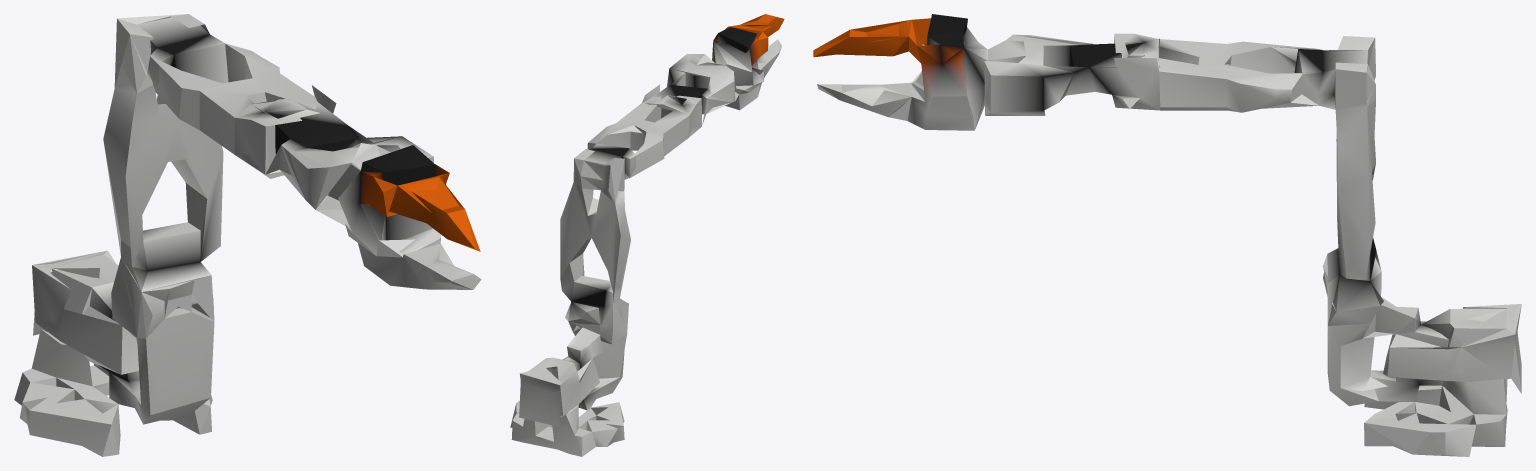
The picture shows the model from 3 angles, left to right: view 1: azimuth 30°, elevation 25°; view 2: azimuth 150°, elevation 25°; view 3: azimuth 270°, elevation 25°; orthographic projection. The views are drawn at different scales.
Parts seen in each view (by area): view 1: so101__l2; view 2: so101__l2; view 3: so101__l2.
Part boxes in pixels (x1,y1,x2,y2): so101__l2: [14, 14, 481, 456]; so101__l2: [510, 14, 784, 456]; so101__l2: [813, 14, 1521, 456].
Bounding box in the file's own units: 0.1049 × 0.2678 × 0.429.
